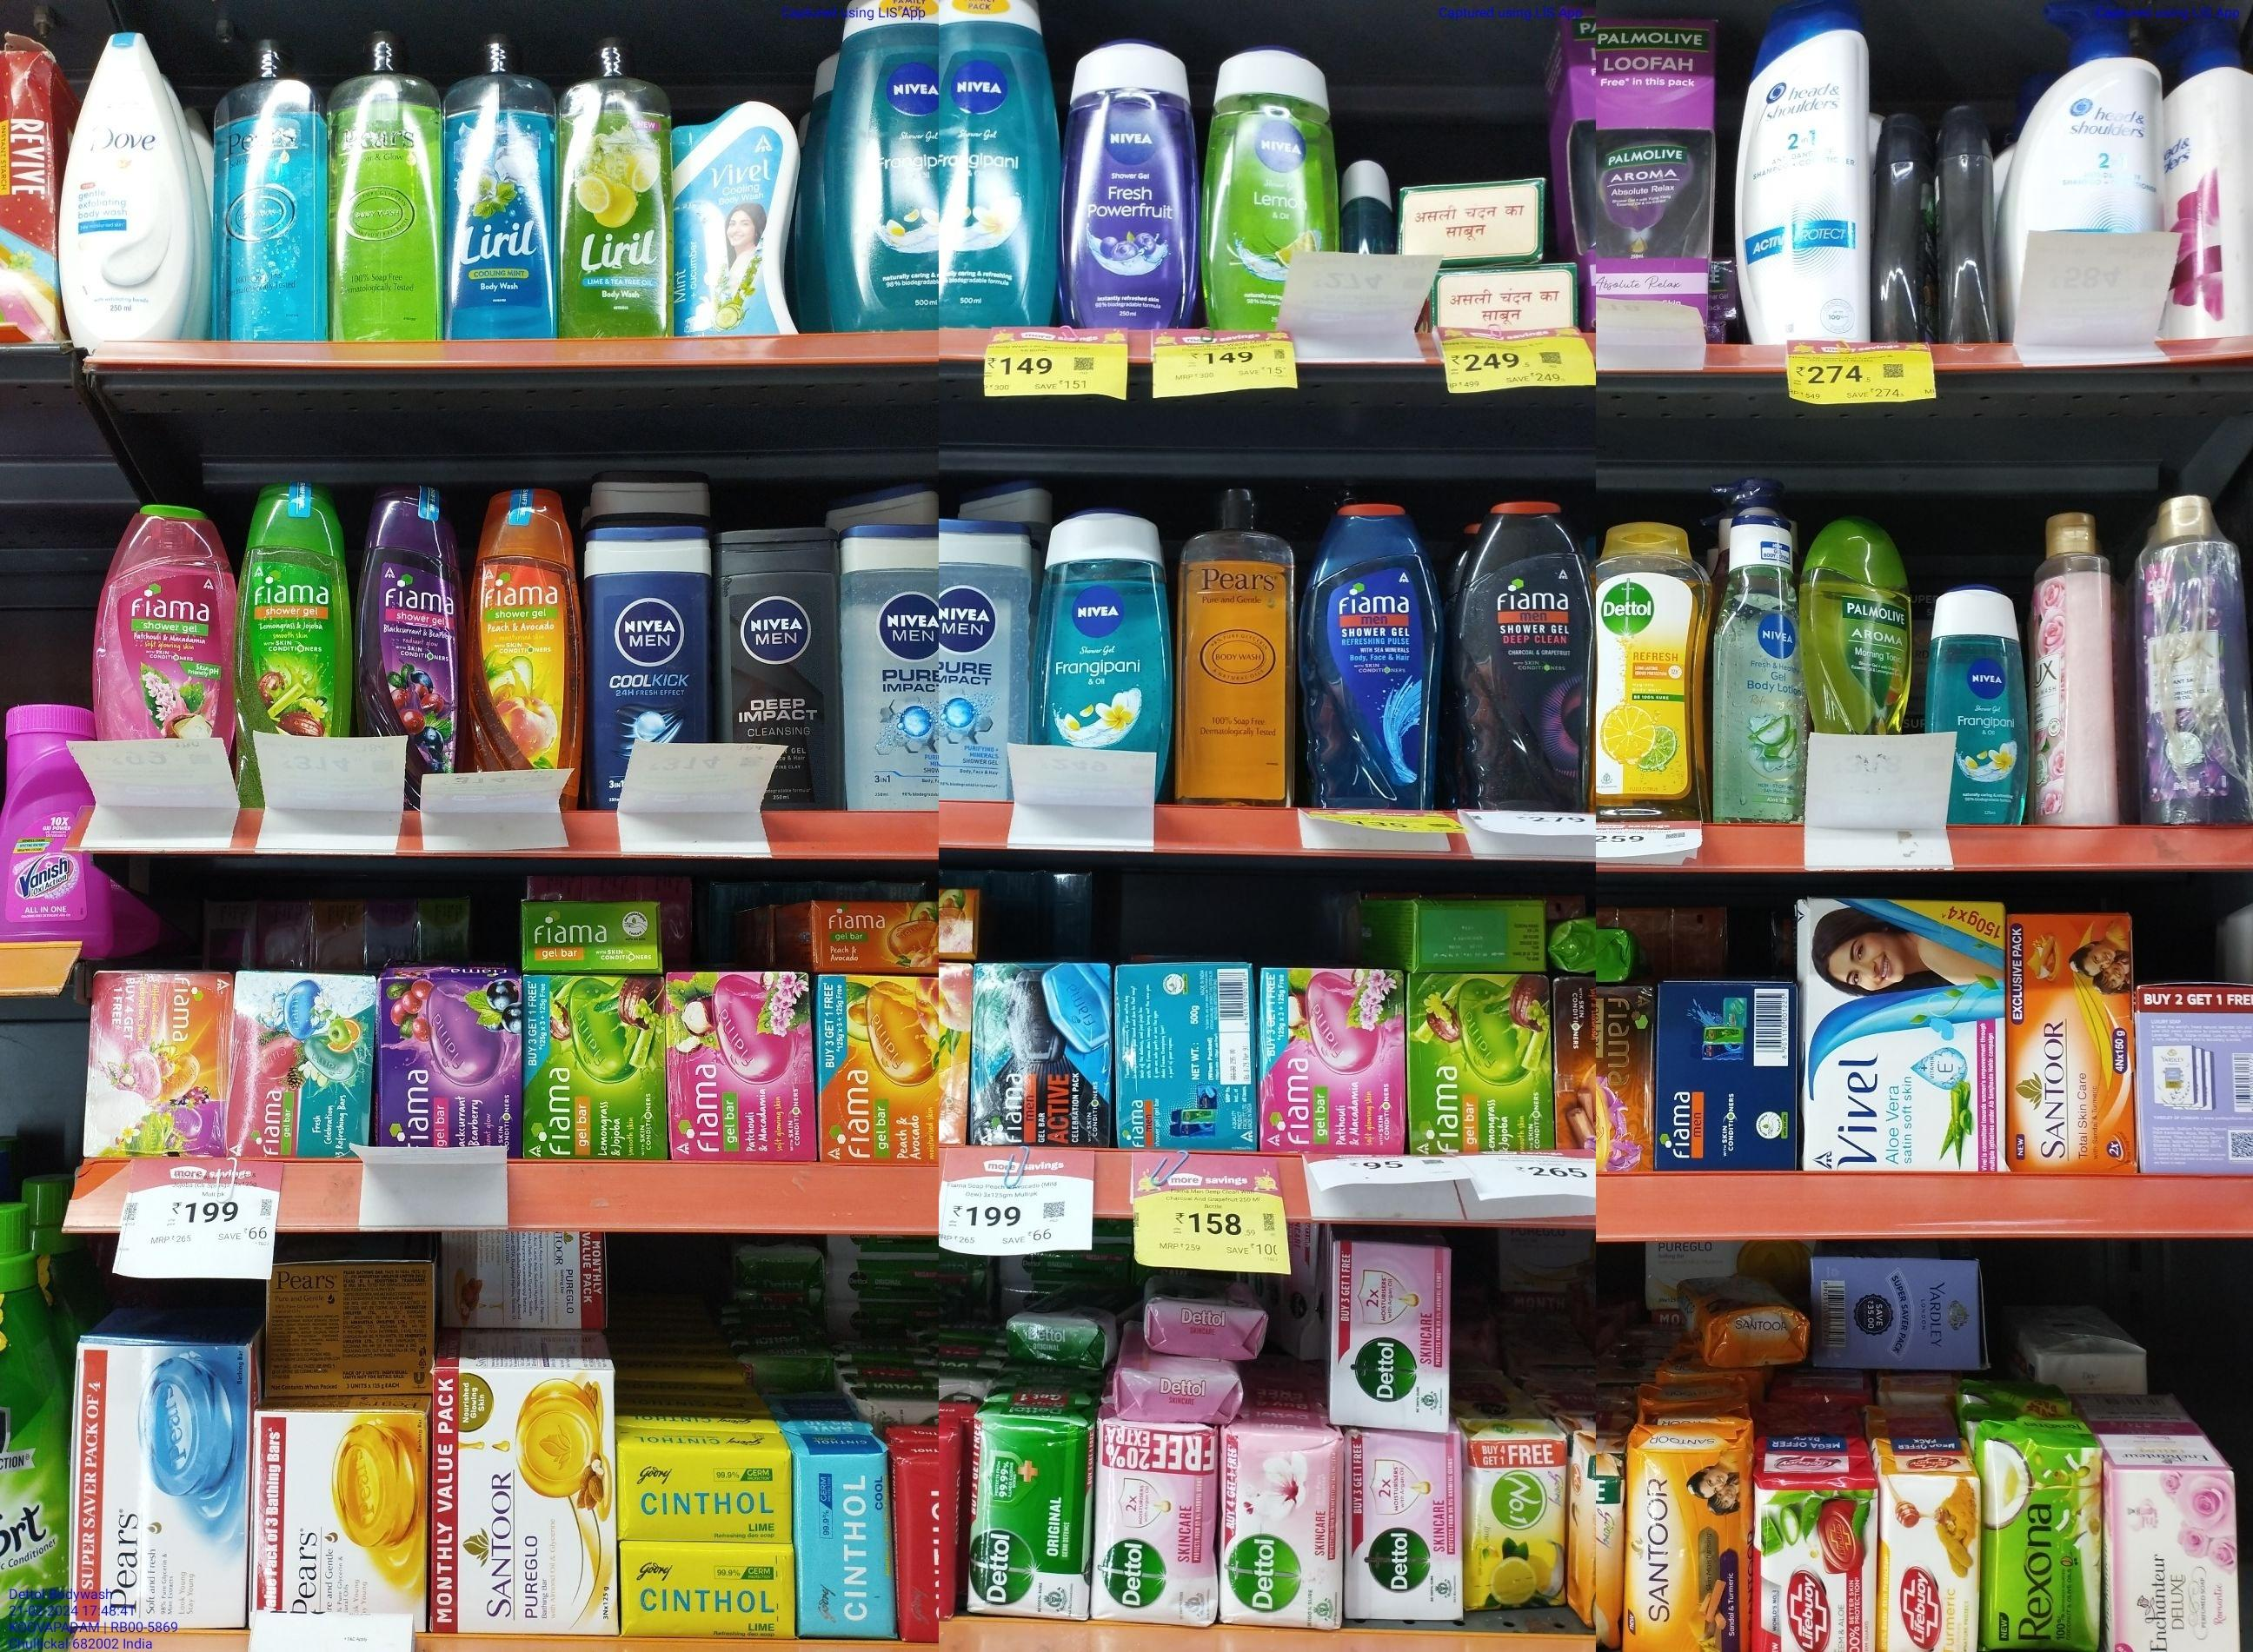Dettol_Bodywash_Refresh: (1594, 517, 1714, 820)
Dove_Gentle_Exfoliating_Body_Wash_250ML: (58, 30, 194, 341)
Fiama_Shower_Gel_Patchouli_and_Macadamia_250ML: (89, 500, 233, 739)
Liril_Cooling_Mint_Body_Wash_250ML: (444, 24, 556, 339)
Liril_Lime_and_Tea_Tree_Oil_Body_Wash_250ML: (556, 31, 672, 339)
Nivea_Shower_Gel_Frangipani_and_Oil_250ML: (1032, 503, 1175, 745), (1924, 582, 2031, 825)
Nivea_Shower_Gel_Fresh_Powerfruit_250ML: (1058, 35, 1202, 327)
Nivea_Shower_Gel_Lemon_and_Oil_250ML: (1203, 35, 1340, 329)
Palmolive_Aroma_Morning_Tonic_Shower_Gel_250ML: (1800, 517, 1917, 734)
Pears_Pure_Glycerin_and_Lemon_Flower_Extracts_Body_Wash_250ML: (325, 26, 444, 341)
Pears_Pure_Glycerin_and_Mint_Extracts_Body_Wash_250ML: (210, 35, 325, 341)
